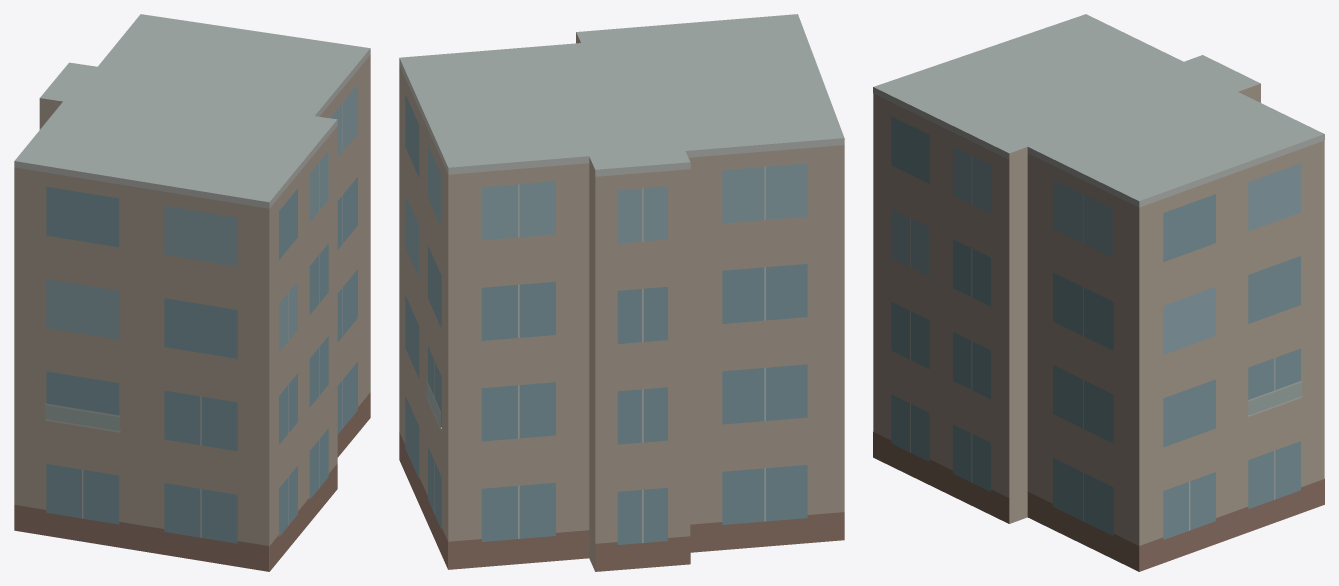
Rendered from survey-upis-32816420.glb.
3 views of the same model, side by side, from view 1: azimuth 30°, elevation 25°; view 2: azimuth 150°, elevation 25°; view 3: azimuth 270°, elevation 25° (orthographic). The views are drawn at different scales.
Visible parts, largest first — view 1: survey-upis-32816420.tmp; view 2: survey-upis-32816420.tmp; view 3: survey-upis-32816420.tmp.
Part boxes in pixels (x1=…): survey-upis-32816420.tmp: x1=14, y1=14, x2=370, y2=571; survey-upis-32816420.tmp: x1=399, y1=14, x2=844, y2=571; survey-upis-32816420.tmp: x1=873, y1=14, x2=1324, y2=571.
Size of the model in its own units: 15.29 by 14.1 by 15.58.
